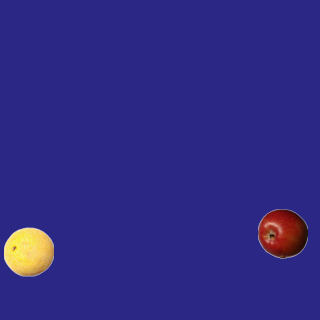Apple Braeburn: (257, 208, 307, 258)
Cantaloupe 1: (3, 226, 53, 276)
